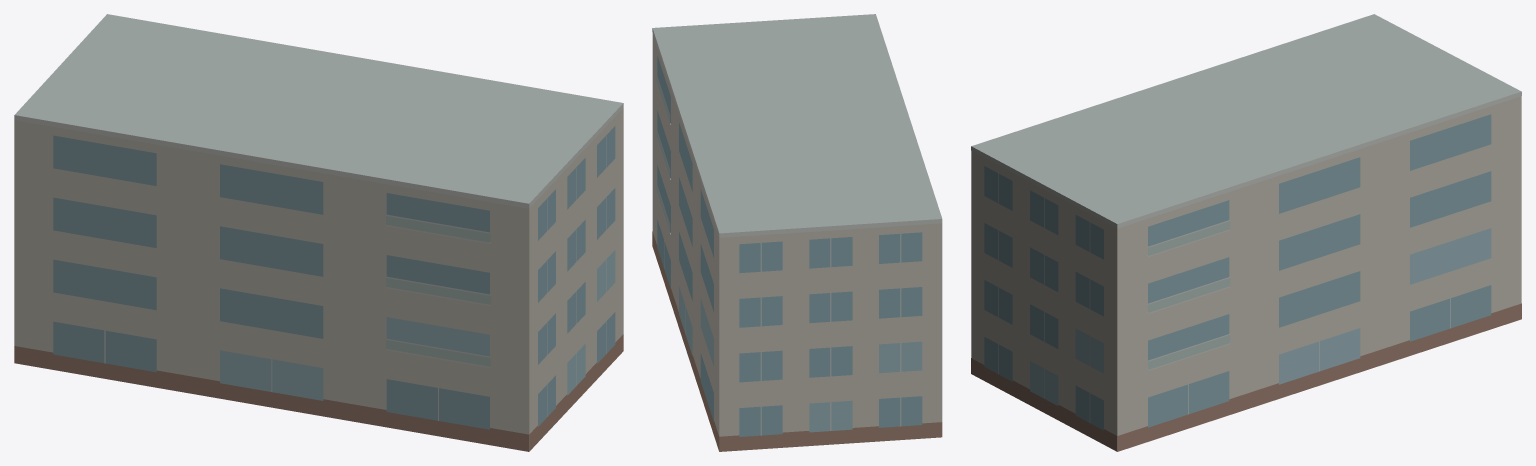
Rendered from survey-upis-32927594.glb.
3 renders of one model, left to right at view 1: azimuth 30°, elevation 25°; view 2: azimuth 150°, elevation 25°; view 3: azimuth 270°, elevation 25°, orthographic. The views are drawn at different scales.
Parts seen in each view (by area): view 1: survey-upis-32927594.tmp; view 2: survey-upis-32927594.tmp; view 3: survey-upis-32927594.tmp.
Boxes of the visible parts, x1,y1,x2,y2 form: survey-upis-32927594.tmp: (14, 14, 623, 451); survey-upis-32927594.tmp: (652, 14, 942, 451); survey-upis-32927594.tmp: (971, 14, 1521, 451).
Size of the model in its own units: 24.15 by 12.2 by 26.73.
